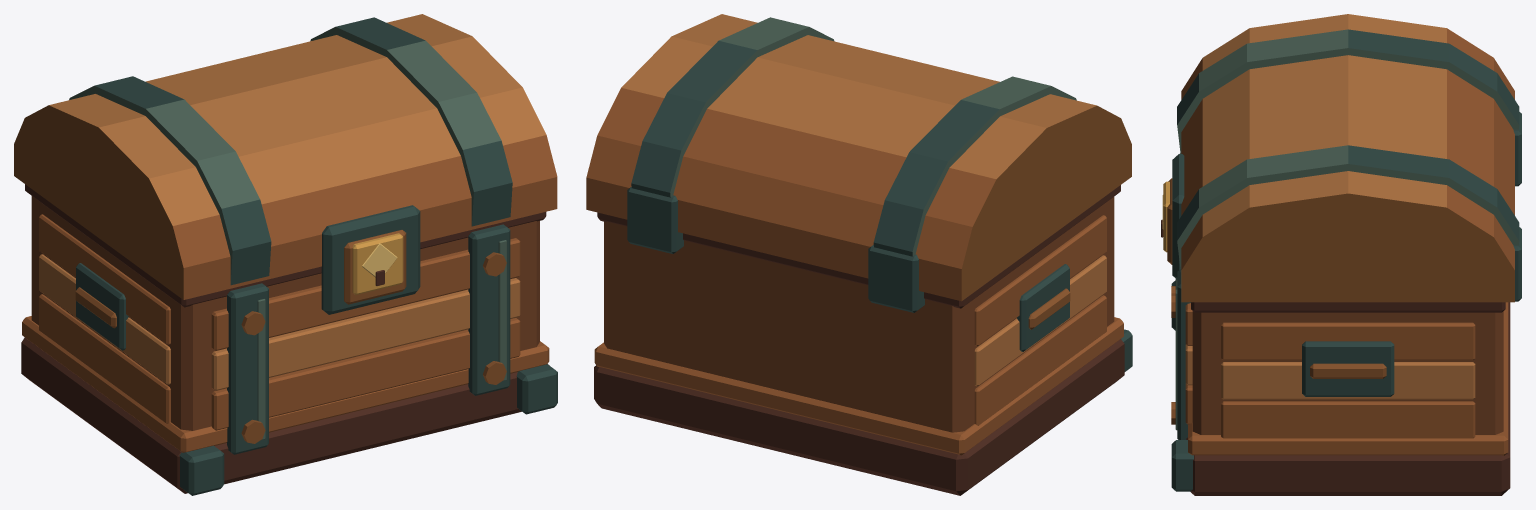
The model's file is home-storage-chest.glb.
The picture shows the model from 3 angles, left to right: view 1: azimuth 30°, elevation 25°; view 2: azimuth 150°, elevation 25°; view 3: azimuth 270°, elevation 25°; orthographic projection. The views are drawn at different scales.
Visible parts, largest first — view 1: ChestBody, ChestLid; view 2: ChestBody, ChestLid; view 3: ChestLid, ChestBody.
Boxes of the visible parts, x1,y1,x2,y2 form: ChestBody: (21,184,557,495); ChestLid: (14,14,557,299); ChestBody: (594,185,1132,495); ChestLid: (586,14,1131,301); ChestLid: (1177,14,1519,302); ChestBody: (1161,112,1521,495).
Size of the model in its own units: 0.616 by 0.487 by 0.508.
